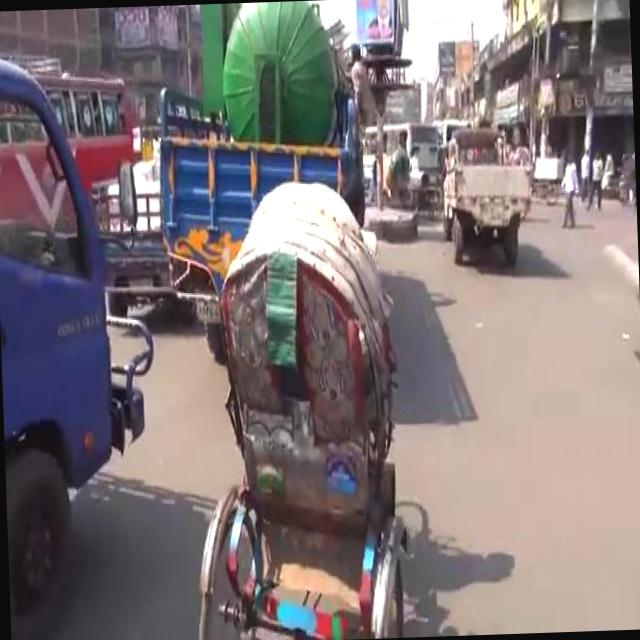bus: (0, 39, 141, 222), (363, 118, 442, 196)
motorcycle: (179, 167, 422, 639), (381, 146, 413, 207)
truck: (0, 52, 166, 599), (149, 0, 376, 369), (440, 120, 538, 266)
